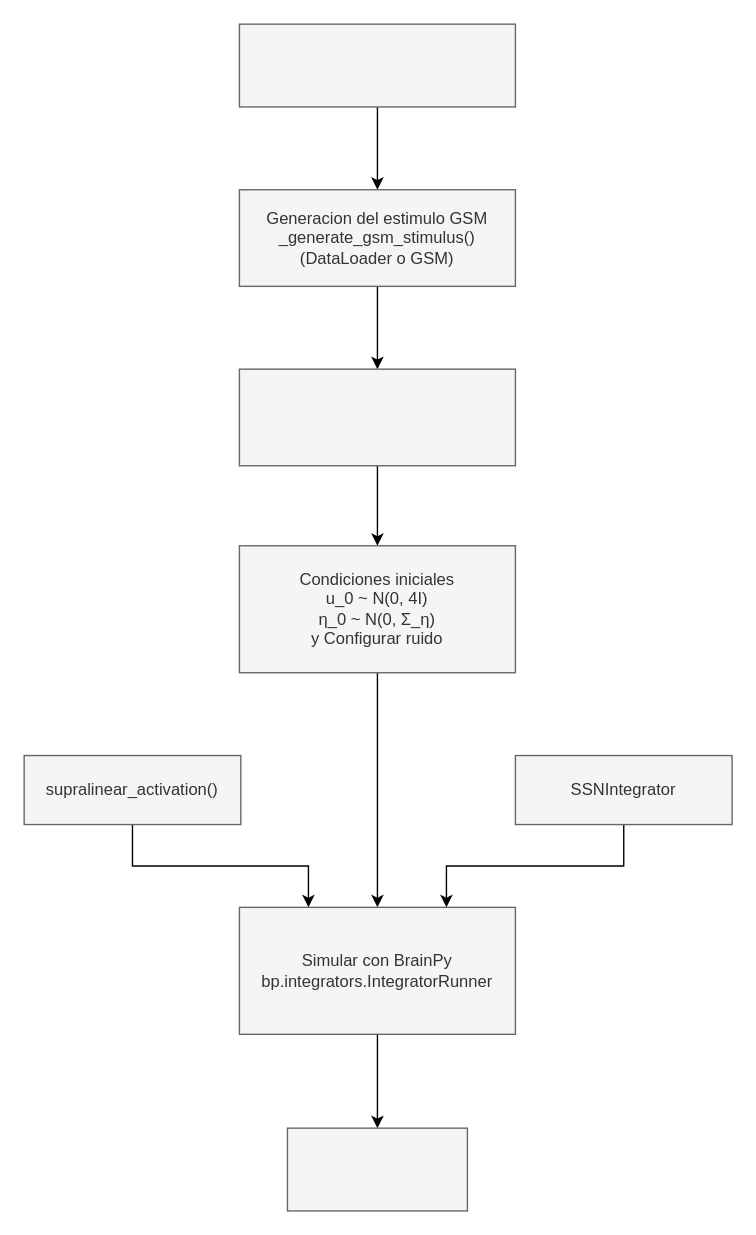
Image size: 756x1235. Some labels were removed from this diagram. The centre of each missing label's shape, as x and y in pixels:
"Obtener matriz W self._W_exact (cargada) o build_connectivity_matrix()" goes at (376,417).
"Return: NDResult" goes at (376,1169).
"Validacion de parametros, estado y modelo entrenado" goes at (376,65).
